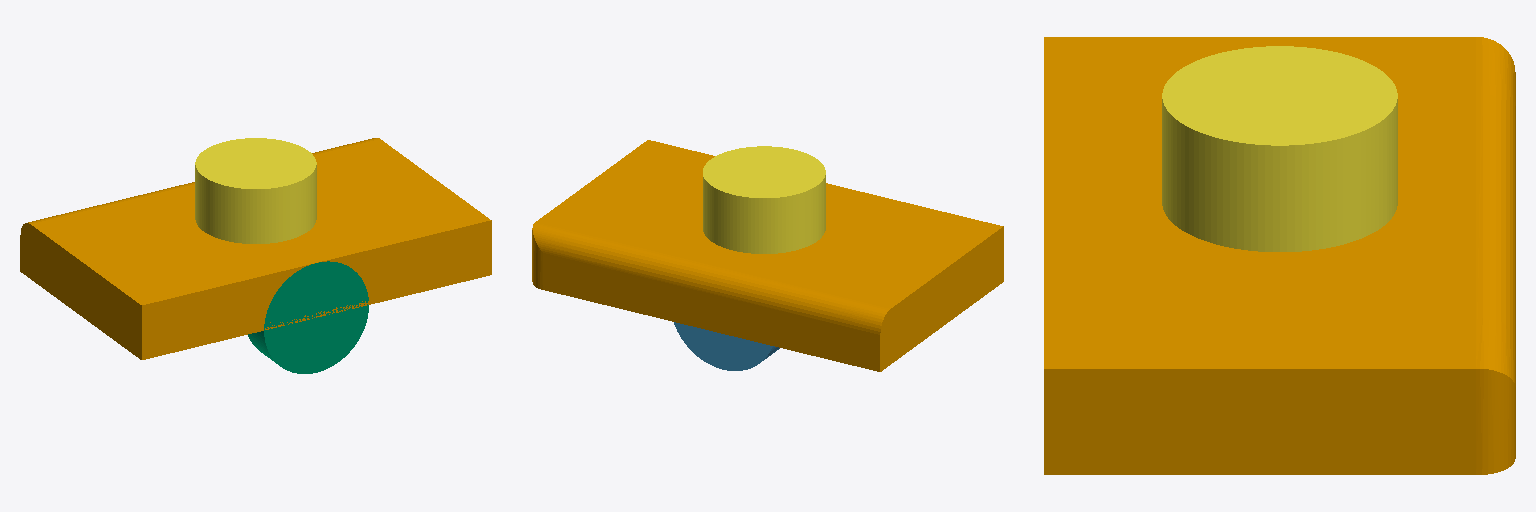
URDF robot description (my_amr):
<?xml version="1.0"?>

<robot name="my_amr">

    <!-- ===================================================== -->
    <!-- BASE LINK                                             -->
    <!-- ===================================================== -->

 <link name="base_link">

    <!-- Fusion model: appearance -->
    <visual>
        <origin xyz="0 0 0" rpy="0 0 0"/>
        <geometry>
            <mesh
                filename="package://amr_description/meshes/visual/base_link_1.stl"
                scale="0.001 0.001 0.001"/>
        </geometry>
    </visual>

    <!-- Simple collision: physics -->
    <collision>
        <origin xyz="0 0 0.10" rpy="0 0 0"/>
        <geometry>
            <box size="0.50 0.40 0.20"/>
        </geometry>
    </collision>

    <!-- Physical properties -->
    <inertial>
        <origin xyz="0 0 0.10" rpy="0 0 0"/>

        <mass value="10.0"/>

        <inertia
            ixx="0.1833"
            ixy="0.0"
            ixz="0.0"
            iyy="0.2833"
            iyz="0.0"
            izz="0.4167"/>
    </inertial>

</link>


    <!-- ===================================================== -->
    <!-- LEFT WHEEL                                            -->
    <!-- ===================================================== -->

    <link name="left_wheel">

        <visual>

            <origin
                xyz="0 0 0"
                rpy="1.5708 0 0"/>

            <geometry>

                <mesh
                    filename="package://amr_description/meshes/visual/Wheel_link_1.stl"
                    scale="0.001 0.001 0.001"/>

            </geometry>

        </visual>


        <collision>

            <origin
                xyz="0 0 0"
                rpy="1.5708 0 0"/>

            <geometry>

                <mesh
                    filename="package://amr_description/meshes/visual/Wheel_link_1.stl"
                    scale="0.001 0.001 0.001"/>

            </geometry>

        </collision>


        <inertial>

            <origin
                xyz="0 0 0"
                rpy="0 0 0"/>

            <mass value="1.0"/>

            <inertia
                ixx="0.01"
                ixy="0.0"
                ixz="0.0"
                iyy="0.01"
                iyz="0.0"
                izz="0.01"/>

        </inertial>

    </link>


    <!-- ===================================================== -->
    <!-- RIGHT WHEEL                                           -->
    <!-- ===================================================== -->

    <link name="right_wheel">

        <visual>

            <origin
                xyz="0 0 0"
                rpy="1.5708 0 0"/>

            <geometry>

                <mesh
                    filename="package://amr_description/meshes/visual/Wheel_link_1.stl"
                    scale="0.001 0.001 0.001"/>

            </geometry>

        </visual>


        <collision>

            <origin
                xyz="0 0 0"
                rpy="1.5708 0 0"/>

            <geometry>

                <mesh
                    filename="package://amr_description/meshes/visual/Wheel_link_1.stl"
                    scale="0.001 0.001 0.001"/>

            </geometry>

        </collision>


        <inertial>

            <origin
                xyz="0 0 0"
                rpy="0 0 0"/>

            <mass value="1.0"/>

            <inertia
                ixx="0.01"
                ixy="0.0"
                ixz="0.0"
                iyy="0.01"
                iyz="0.0"
                izz="0.01"/>

        </inertial>

    </link>


    <!-- ===================================================== -->
    <!-- LIDAR LINK                                            -->
    <!-- ===================================================== -->

    <link name="lidar_link">

        <visual>

            <origin
                xyz="0 0 0"
                rpy="0 0 0"/>

            <geometry>

                <mesh
                    filename="package://amr_description/meshes/visual/lidar_link_1.stl"
                    scale="0.001 0.001 0.001"/>

            </geometry>

        </visual>


        <collision>

            <origin
                xyz="0 0 0"
                rpy="0 0 0"/>

            <geometry>

                <mesh
                    filename="package://amr_description/meshes/visual/lidar_link_1.stl"
                    scale="0.001 0.001 0.001"/>

            </geometry>

        </collision>


        <inertial>

            <origin
                xyz="0 0 0"
                rpy="0 0 0"/>

            <mass value="0.5"/>

            <inertia
                ixx="0.005"
                ixy="0.0"
                ixz="0.0"
                iyy="0.005"
                iyz="0.0"
                izz="0.005"/>

        </inertial>

    </link>


    <!-- ===================================================== -->
    <!-- LEFT WHEEL JOINT                                      -->
    <!-- ===================================================== -->

    <joint
        name="left_wheel_joint"
        type="continuous">

        <parent link="base_link"/>

        <child link="left_wheel"/>

        <!-- CHANGE THIS POSITION TO MATCH YOUR CAD -->

        <origin
            xyz="0 0.02 0"
            rpy="0 0 0"/>

        <axis
            xyz="0 1 0"/>

    </joint>


    <!-- ===================================================== -->
    <!-- RIGHT WHEEL JOINT                                     -->
    <!-- ===================================================== -->

    <joint
        name="right_wheel_joint"
        type="continuous">

        <parent link="base_link"/>

        <child link="right_wheel"/>

        <!-- CHANGE THIS POSITION TO MATCH YOUR CAD -->

        <origin
            xyz="0 -0.02 0"
            rpy="0 0 0"/>

        <axis
            xyz="0 1 0"/>

    </joint>


    <!-- ===================================================== -->
    <!-- LIDAR JOINT                                           -->
    <!-- ===================================================== -->

    <joint
        name="lidar_joint"
        type="fixed">

        <parent link="base_link"/>

        <child link="lidar_link"/>

        <!-- CHANGE THIS POSITION TO MATCH YOUR CAD -->

        <origin
            xyz="0 0 0.01"
            rpy="0 0 0"/>

    </joint>
    <gazebo>

    <plugin
        filename="gz-sim-diff-drive-system"
        name="gz::sim::systems::DiffDrive">

        <left_joint>left_wheel_joint</left_joint>

        <right_joint>right_wheel_joint</right_joint>

        <wheel_separation>0.40</wheel_separation>

        <wheel_radius>0.08</wheel_radius>

        <topic>/cmd_vel</topic>

        <odom_topic>/odom</odom_topic>

        <frame_id>odom</frame_id>

        <child_frame_id>base_link</child_frame_id>

        <odom_publish_frequency>30</odom_publish_frequency>

    </plugin>

</gazebo>

</robot>

--- Facts derived from the render (not from the file) ---
3 views of the same robot in one strip: view 1: azimuth 30°, elevation 25°; view 2: azimuth 150°, elevation 25°; view 3: azimuth 270°, elevation 25° (orthographic).
Model my_amr with 4 links and 3 joints (2 continuous, 1 fixed), rooted at base_link, posed all joints at 0.
Links seen in each view (by area): view 1: base_link, lidar_link, right_wheel; view 2: base_link, lidar_link, left_wheel; view 3: base_link, lidar_link.
Link boxes in pixels (x1,y1,x2,y2): base_link: [20, 138, 491, 359]; lidar_link: [195, 138, 316, 243]; right_wheel: [248, 261, 368, 373]; base_link: [532, 140, 1003, 371]; lidar_link: [703, 146, 825, 253]; left_wheel: [674, 322, 779, 370]; base_link: [1044, 37, 1515, 474]; lidar_link: [1162, 46, 1397, 251].
Bounding box of the posed robot: 0.1 × 0.06 × 0.045 m (x, y, z).
Meshes: 3 distinct files referenced, 4 mesh visuals loaded (3 binary STL).
